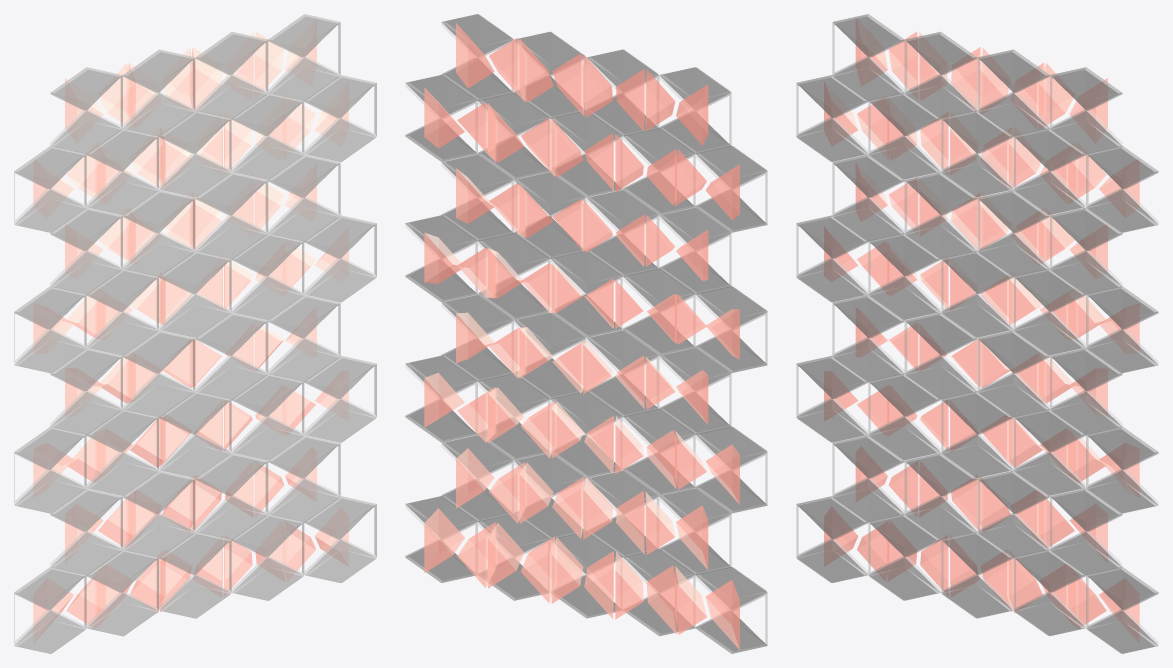
The model's file is alien_glass_material_test.glb.
The picture shows the model from 3 angles, left to right: view 1: azimuth 30°, elevation 25°; view 2: azimuth 150°, elevation 25°; view 3: azimuth 330°, elevation 25°; orthographic projection.
Visible parts, largest first — view 1: Material_002-material, Material_001-material; view 2: Material_002-material, Material_001-material; view 3: Material_002-material, Material_001-material.
Part boxes in pixels (<box>): Material_002-material: <box>14,14,376,653</box>; Material_001-material: <box>33,17,348,641</box>; Material_002-material: <box>405,14,767,653</box>; Material_001-material: <box>424,23,739,649</box>; Material_002-material: <box>796,14,1158,653</box>; Material_001-material: <box>824,17,1139,641</box>.
Size of the model in its own units: 14.16 by 21.57 by 0.3983.
Materials: 3 (3 with a texture image).
